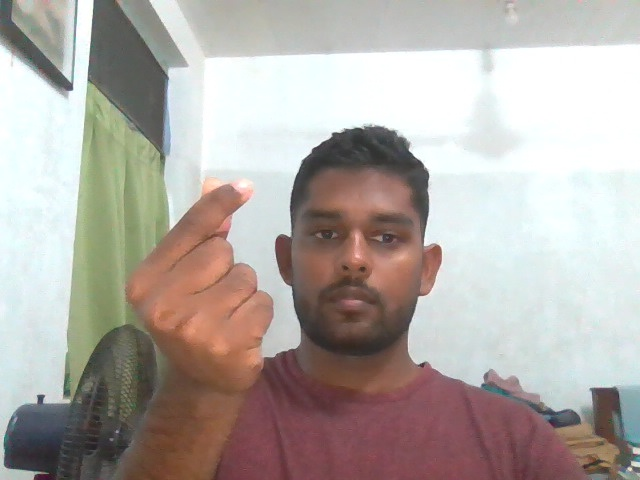iloveyou: (101, 163, 286, 406)
